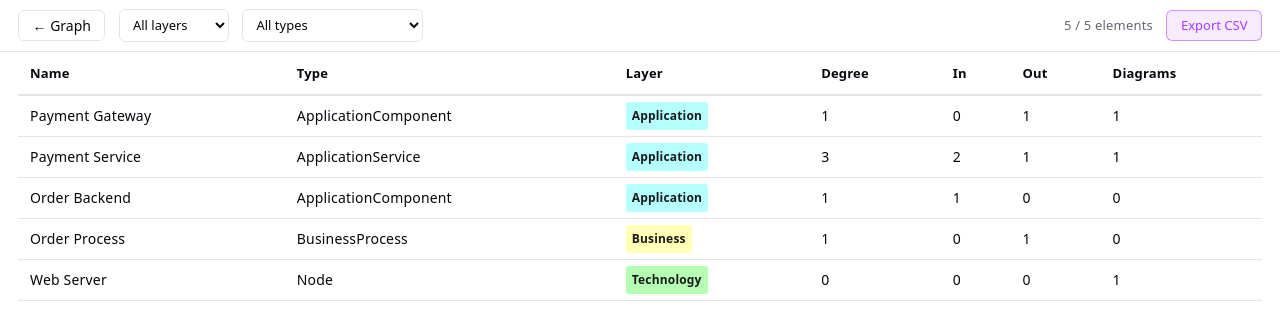
Test: TableView › filtering by type works
Select "ApplicationComponent" in the dropdown named "Filter by type" at (333, 25), box [242,9,424,42]
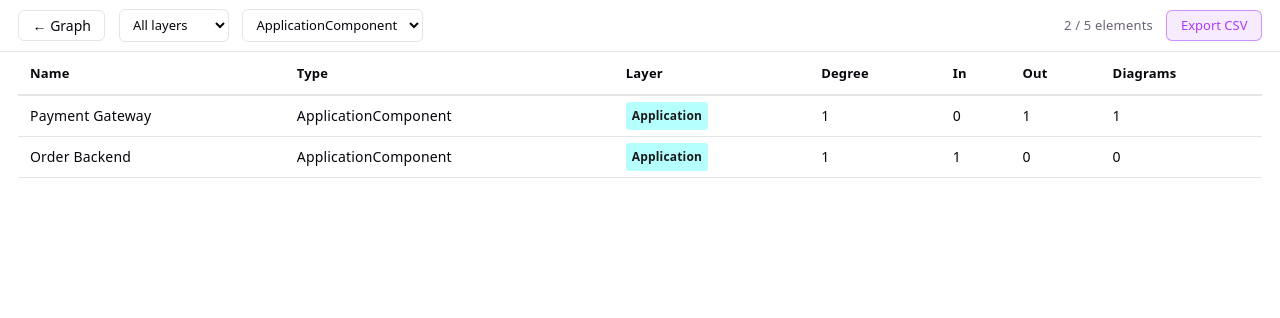
Result: the number of rows is 3 at [18,52,1262,95]; [18,95,1262,136]; [18,136,1262,178]
